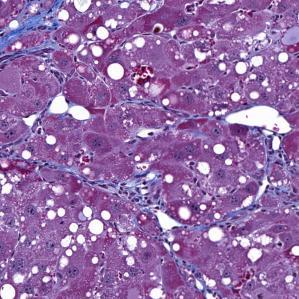fibrosis: (2, 6, 74, 62)
